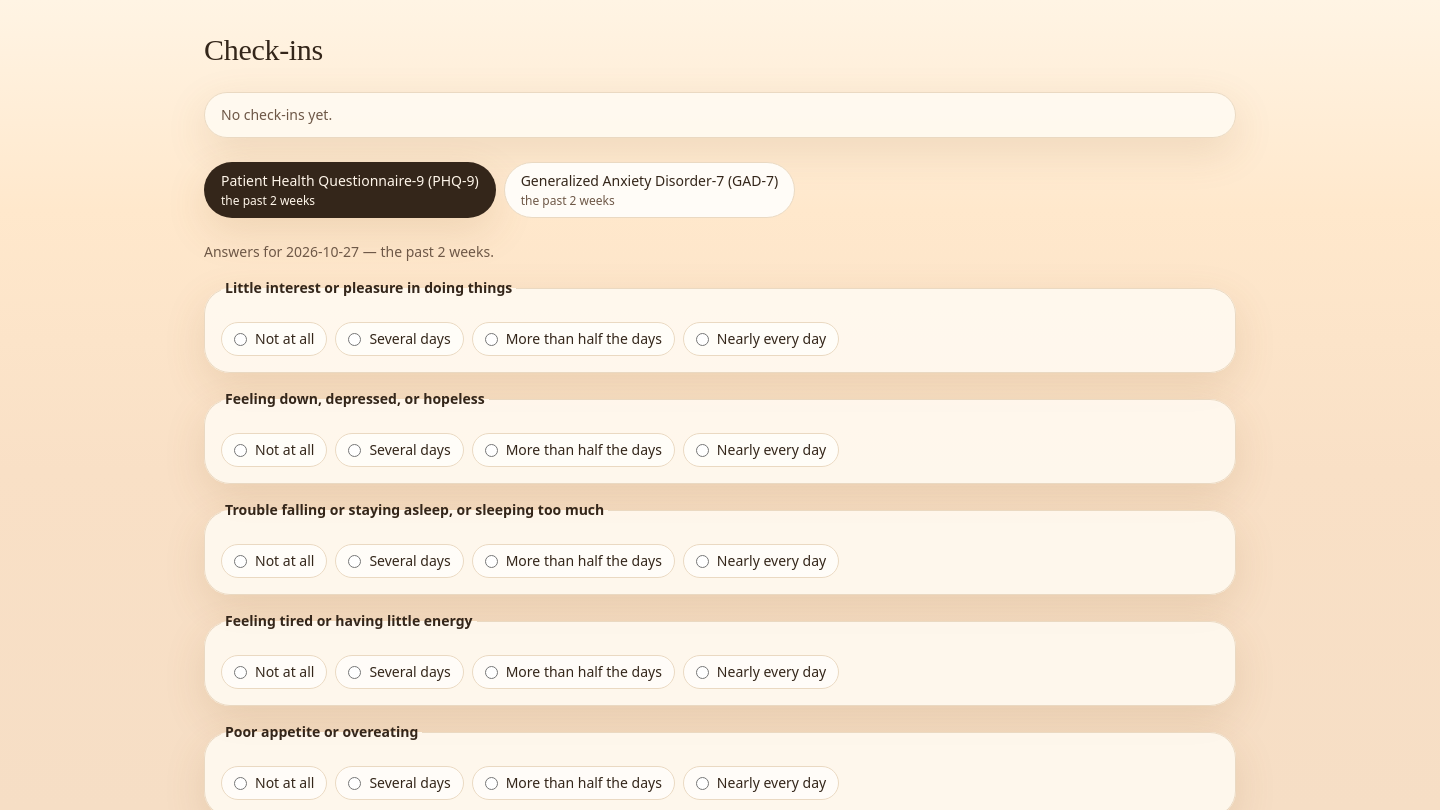
CheckInsPage — instruments and status bar › switches the form when another instrument is selected
What coordinates should you click on to do the following:
click the button "Generalized Anxiety Disorder-7 (GAD-7) the past 2 weeks"
I would click on:
 (649, 190)
Its box is [504, 162, 795, 218].
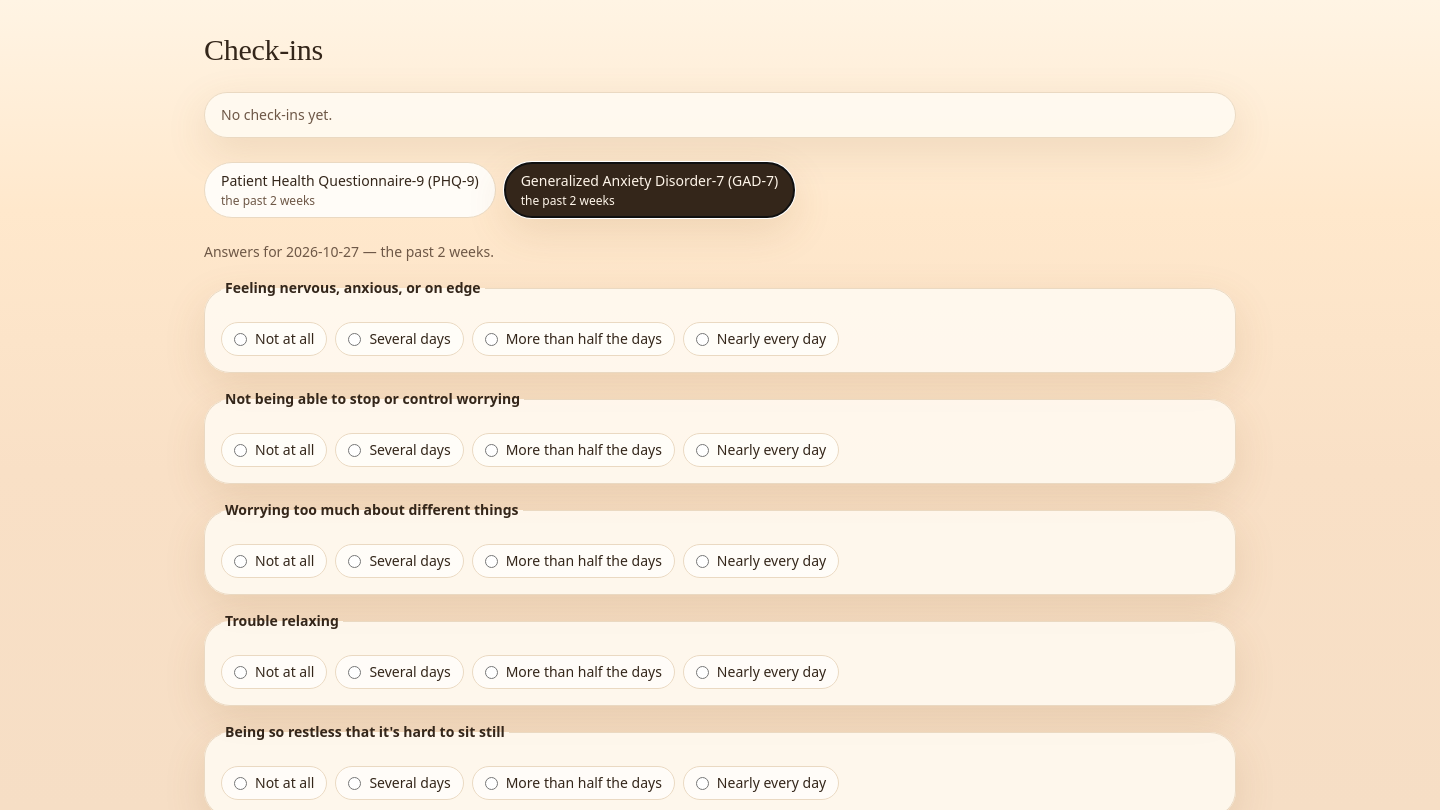
Expected: the element "Feeling nervous, anxious" is shown, [204, 278, 1236, 373]
Expected: the text "Little interest or pleasure" is gone
